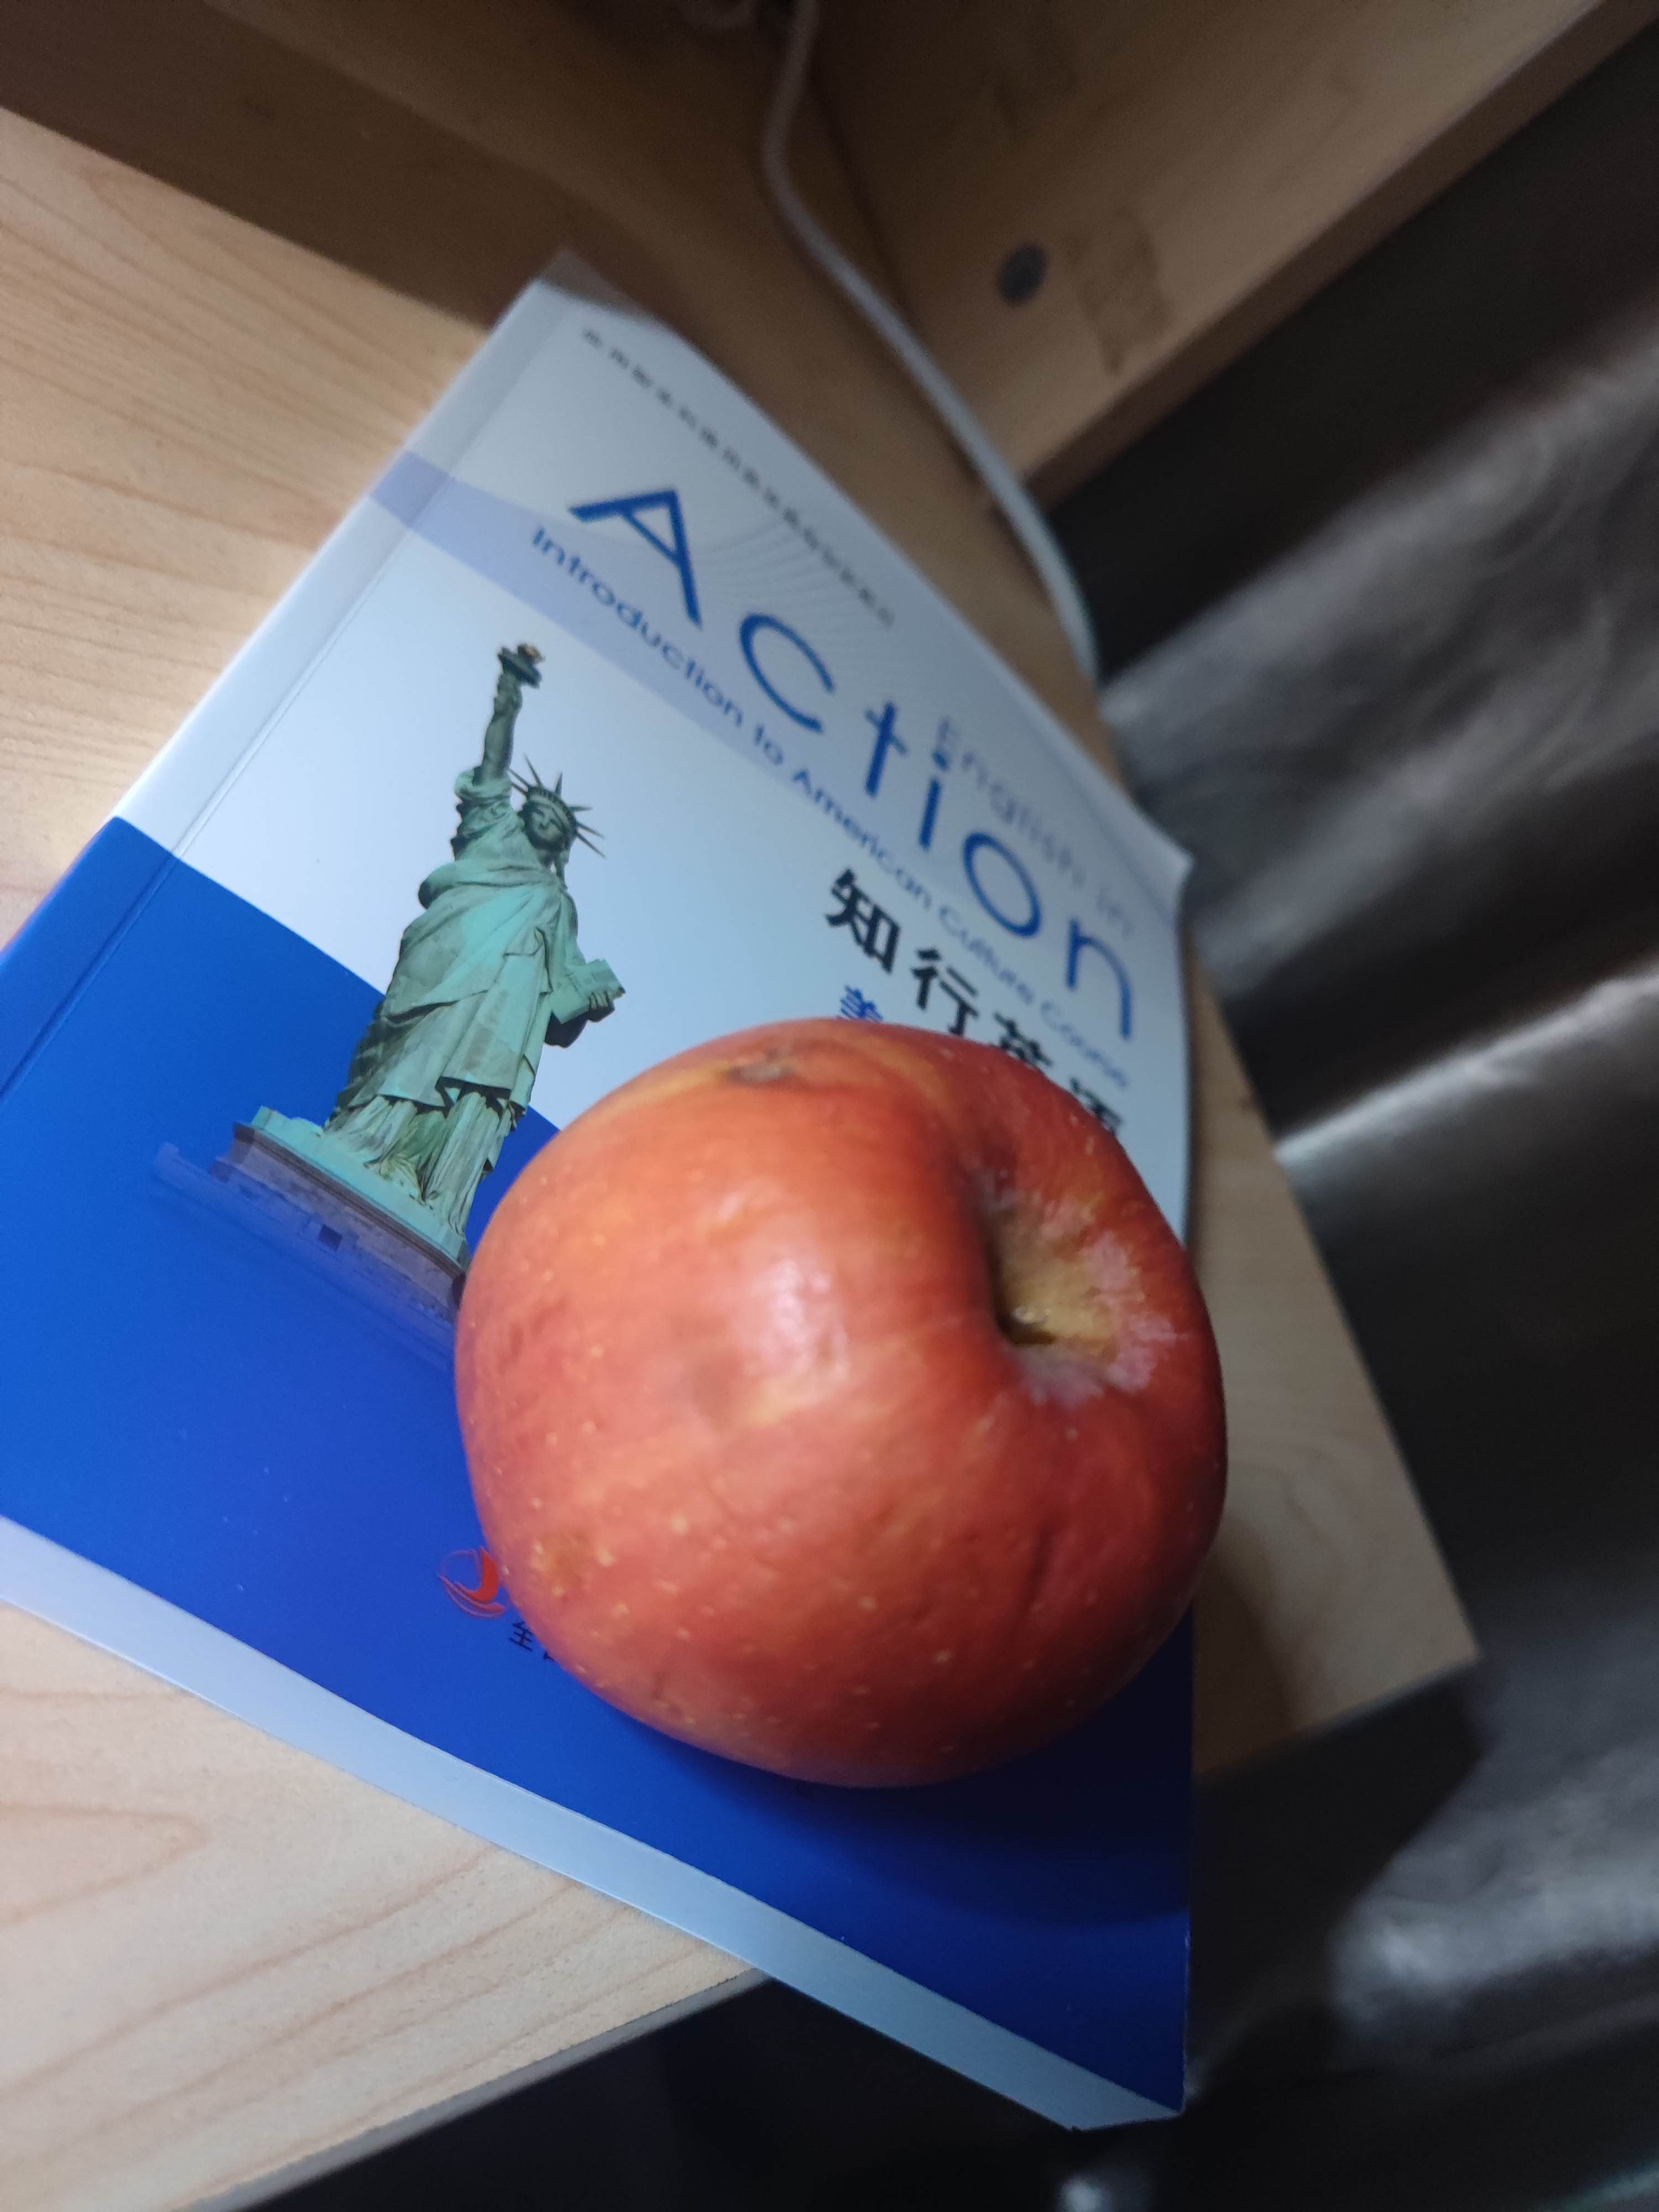apple: (455, 1005, 1241, 1797)
